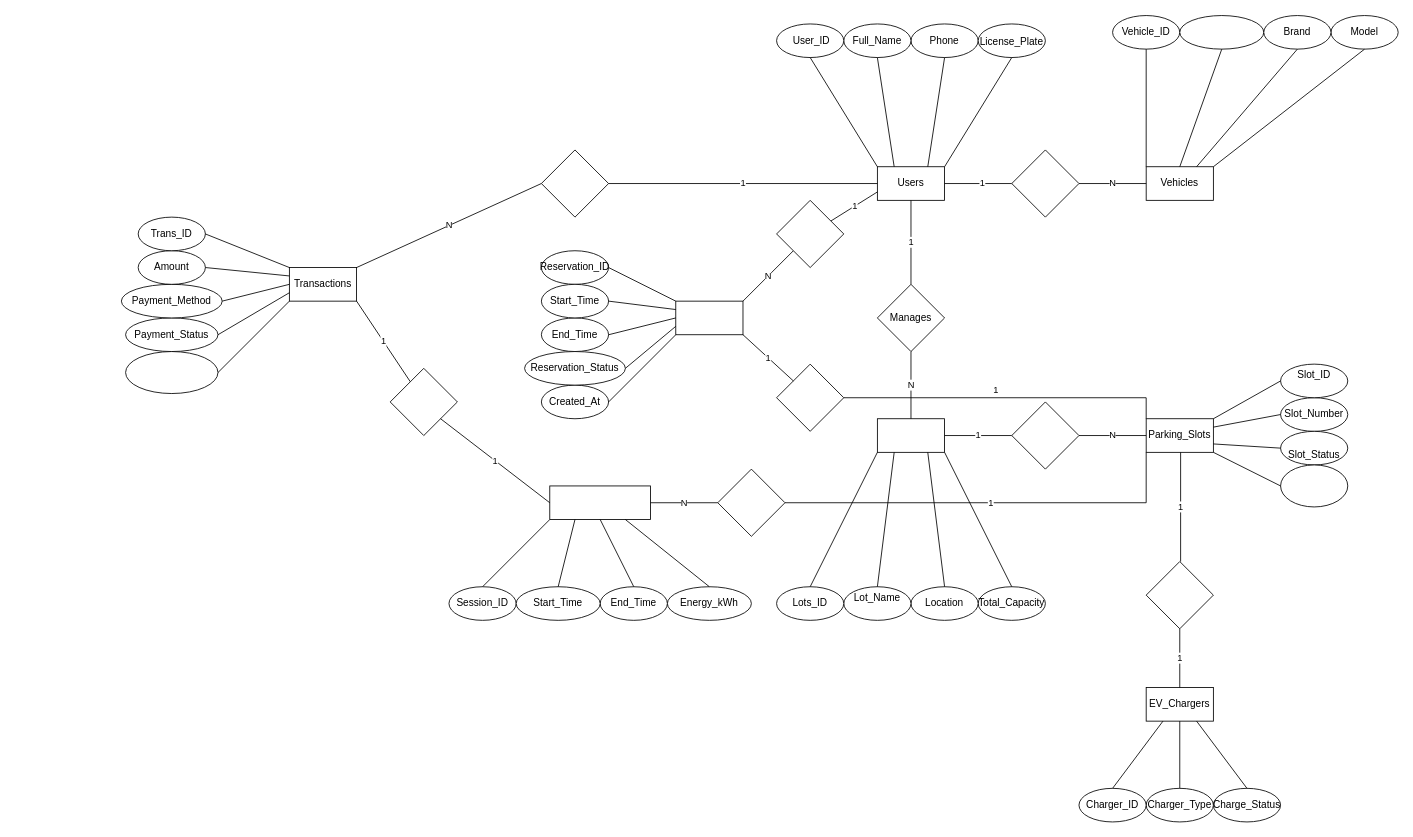
Image size: 1413x837. Some labels were removed from this diagram. The centre of each missing label's shape, as x and y in pixels:
"Acknowledge" belongs at pixel 810 397.
"Battery_Capacity" belongs at pixel 1221 32.
"Contain" belongs at pixel 1045 435.
"Equipment" belongs at pixel 1179 595.
"Has_Charger" belongs at pixel 1314 485.
"Initialize" belongs at pixel 423 402.
"Occur" belongs at pixel 751 502.
"Own" belongs at pixel 1045 183.
"Parking_Lots" belongs at pixel 911 435.
"Payment" belongs at pixel 575 183.
"Reservations" belongs at pixel 709 317.
"Thực hiện" belongs at pixel 810 234.
"Transaction_Date" belongs at pixel 171 372.
"Usage_Sessions" belongs at pixel 600 502.
